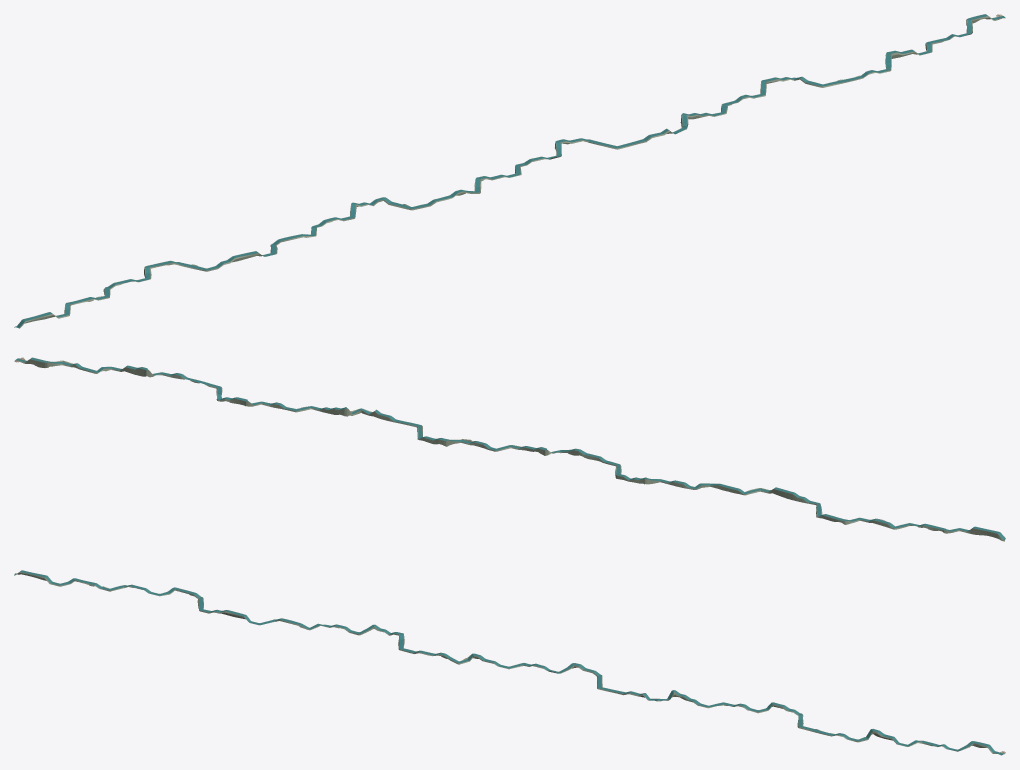
The model's file is river.glb.
The picture shows the model from 3 angles, top to bottom: view 1: azimuth 30°, elevation 25°; view 2: azimuth 150°, elevation 25°; view 3: azimuth 330°, elevation 25°; orthographic projection. The views are drawn at different scales.
Size of the model in its own units: 348 by 2.94 by 43.9.
